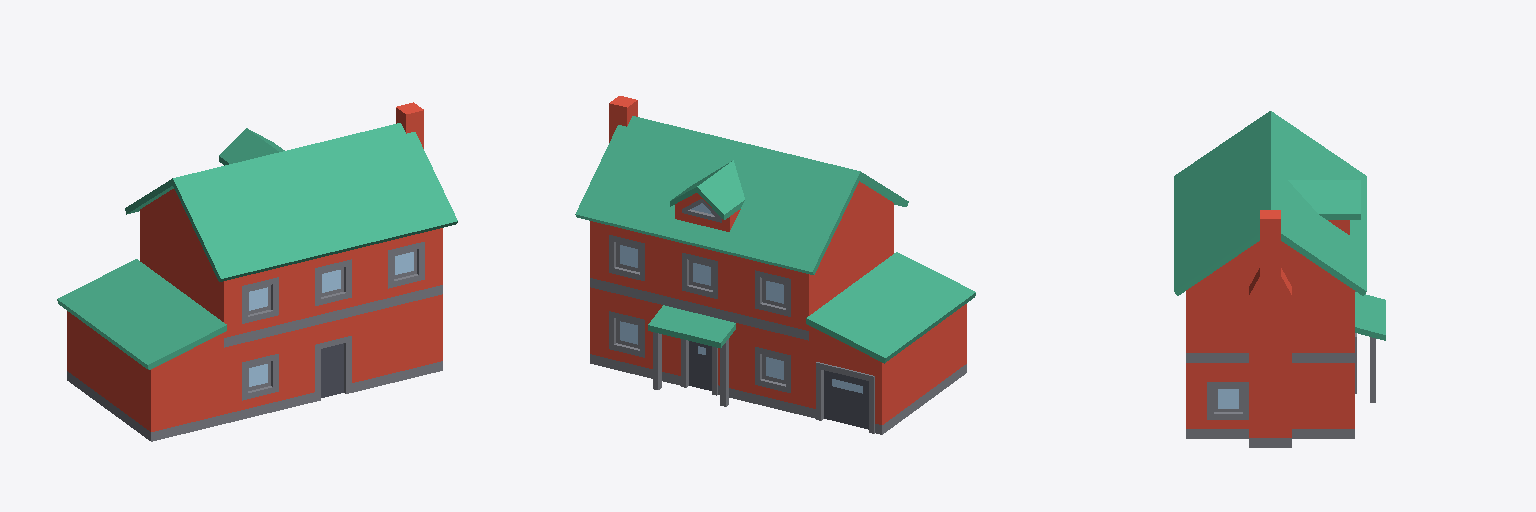
The model's file is house_type08.obj.
3 views of the same model, side by side, from view 1: azimuth 30°, elevation 25°; view 2: azimuth 150°, elevation 25°; view 3: azimuth 270°, elevation 25° (orthographic).
Parts seen in each view (by area): view 1: house_type08; view 2: house_type08; view 3: house_type08.
Part boxes in pixels (x1,y1,x2,y2): house_type08: (57,102,457,441); house_type08: (575,96,975,434); house_type08: (1174,111,1385,447).
Bounding box in the file's own units: 1.74 × 1.2 × 1.01.